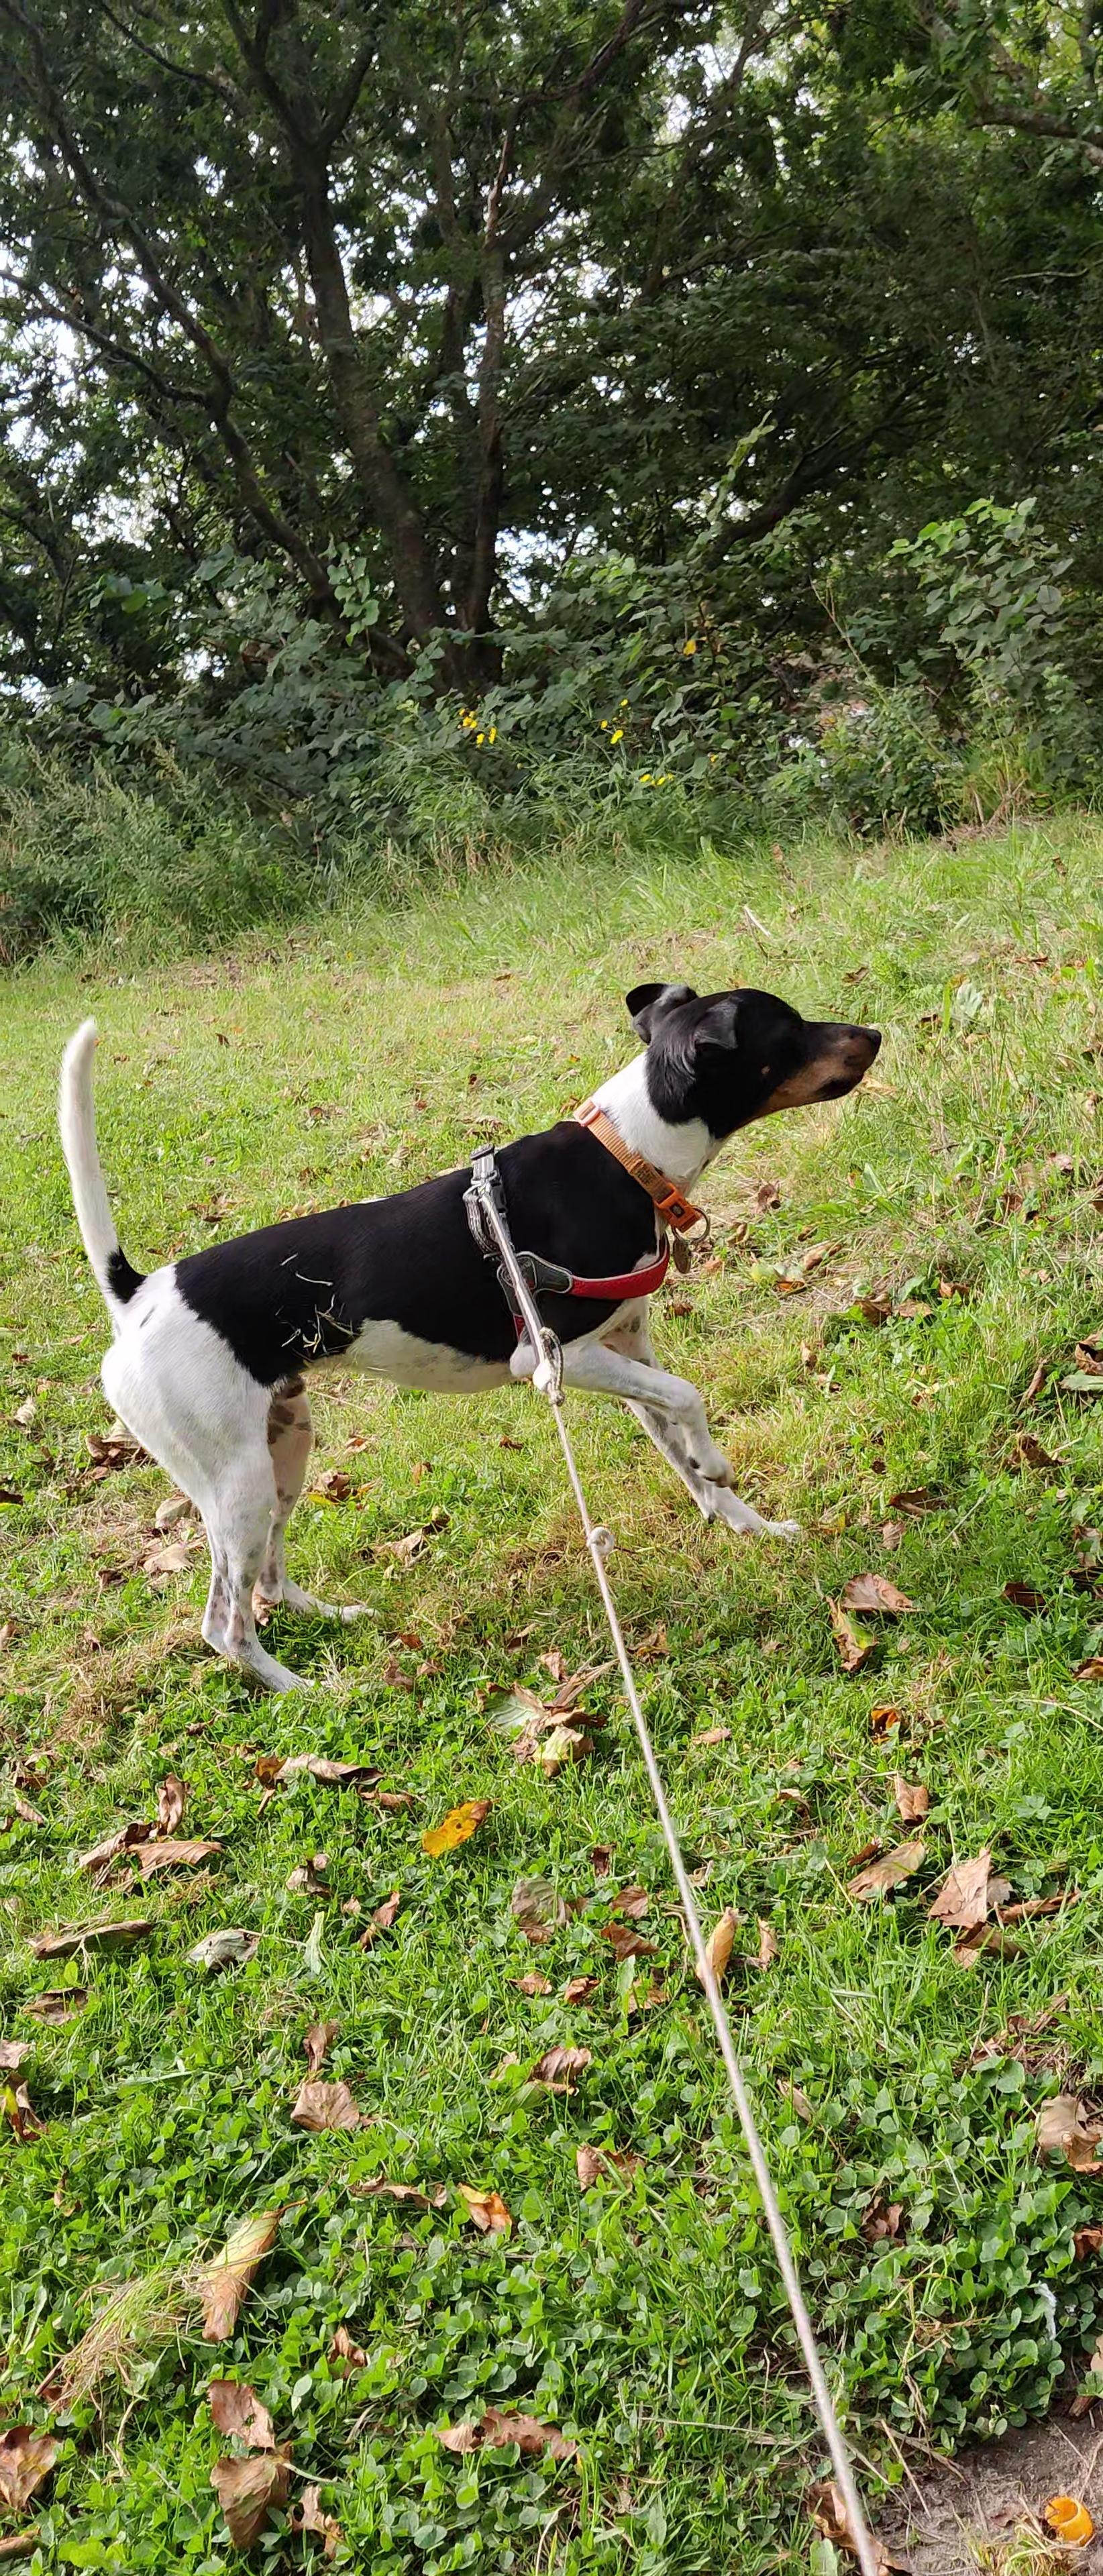Dog: (51, 976, 886, 1700)
